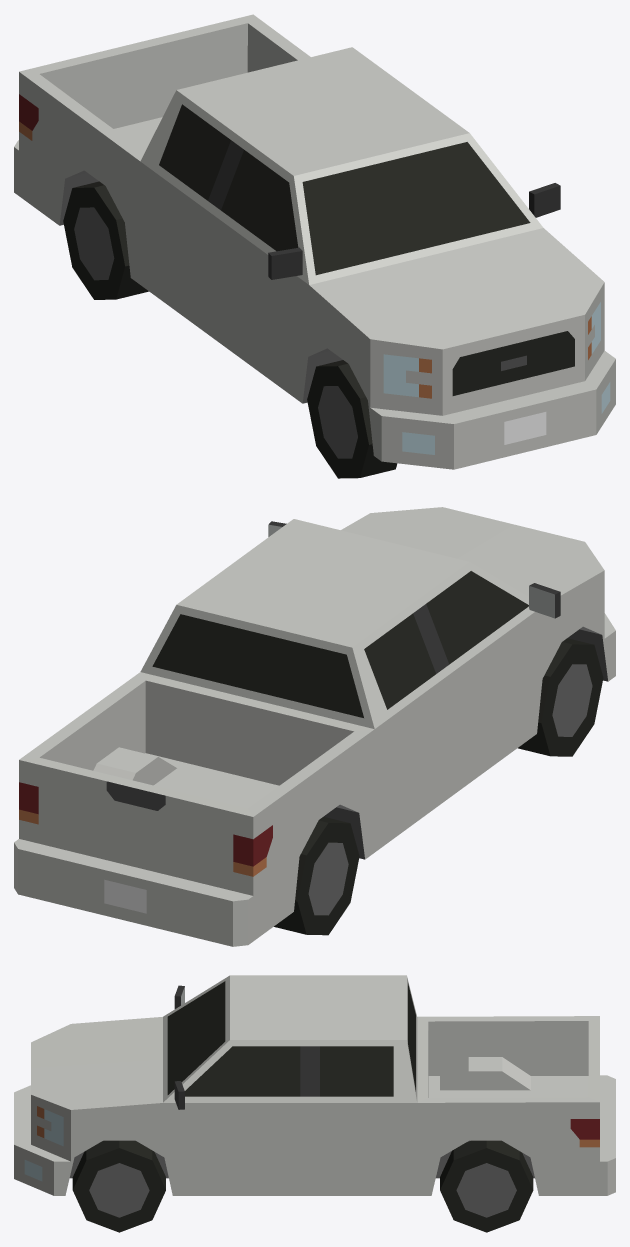
The model's file is Veh_Pickup_03_White.obj.
3 renders of one model, top to bottom at view 1: azimuth 30°, elevation 25°; view 2: azimuth 150°, elevation 25°; view 3: azimuth 270°, elevation 25°, orthographic. The views are drawn at different scales.
Bounding box in the file's own units: 1.37 × 1.1 × 3.29.
